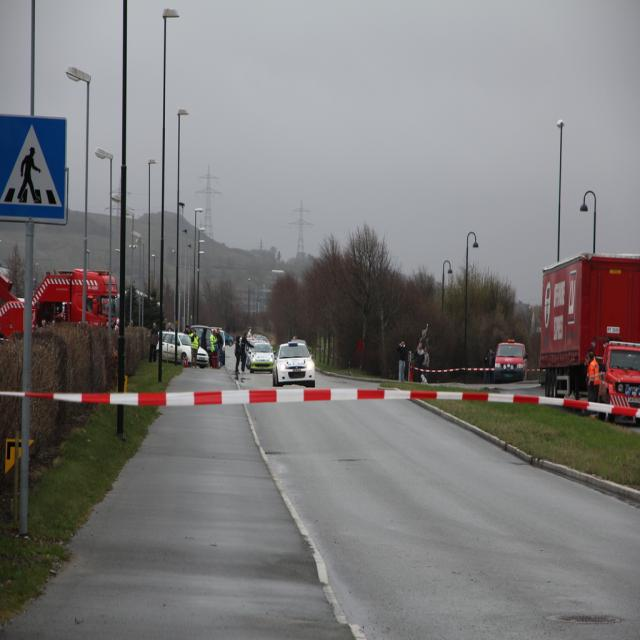car: (268, 340, 318, 393)
